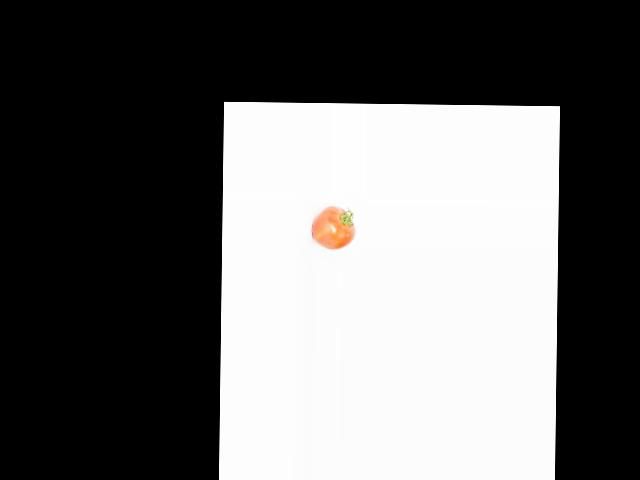tomato: (311, 206, 356, 250)
